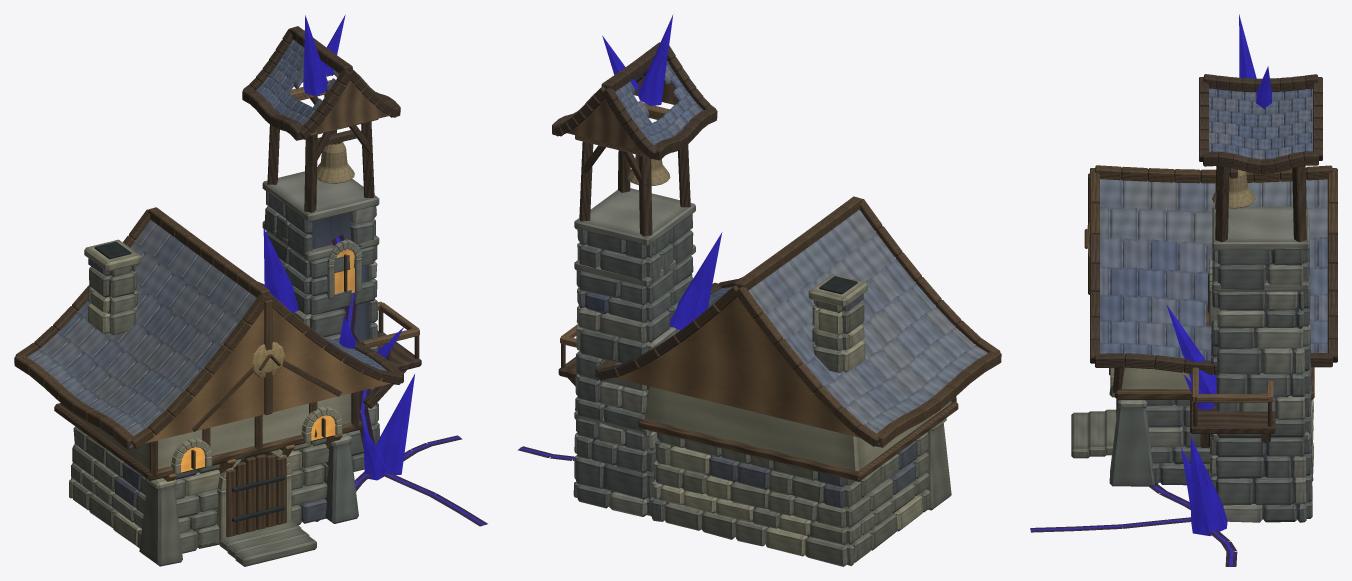
Rendered from corrupt.glb.
3 views of the same model, side by side, from view 1: azimuth 30°, elevation 25°; view 2: azimuth 150°, elevation 25°; view 3: azimuth 270°, elevation 25° (orthographic). The views are drawn at different scales.
Visible parts, largest first — view 1: Family_corrupt; view 2: Family_corrupt; view 3: Family_corrupt.
Part boxes in pixels (<box>): Family_corrupt: <box>14,14,487,566</box>; Family_corrupt: <box>517,14,1001,566</box>; Family_corrupt: <box>1030,14,1337,566</box>.
Size of the model in its own units: 9.87 by 10.97 by 6.34.
3 materials, 3 textured.
